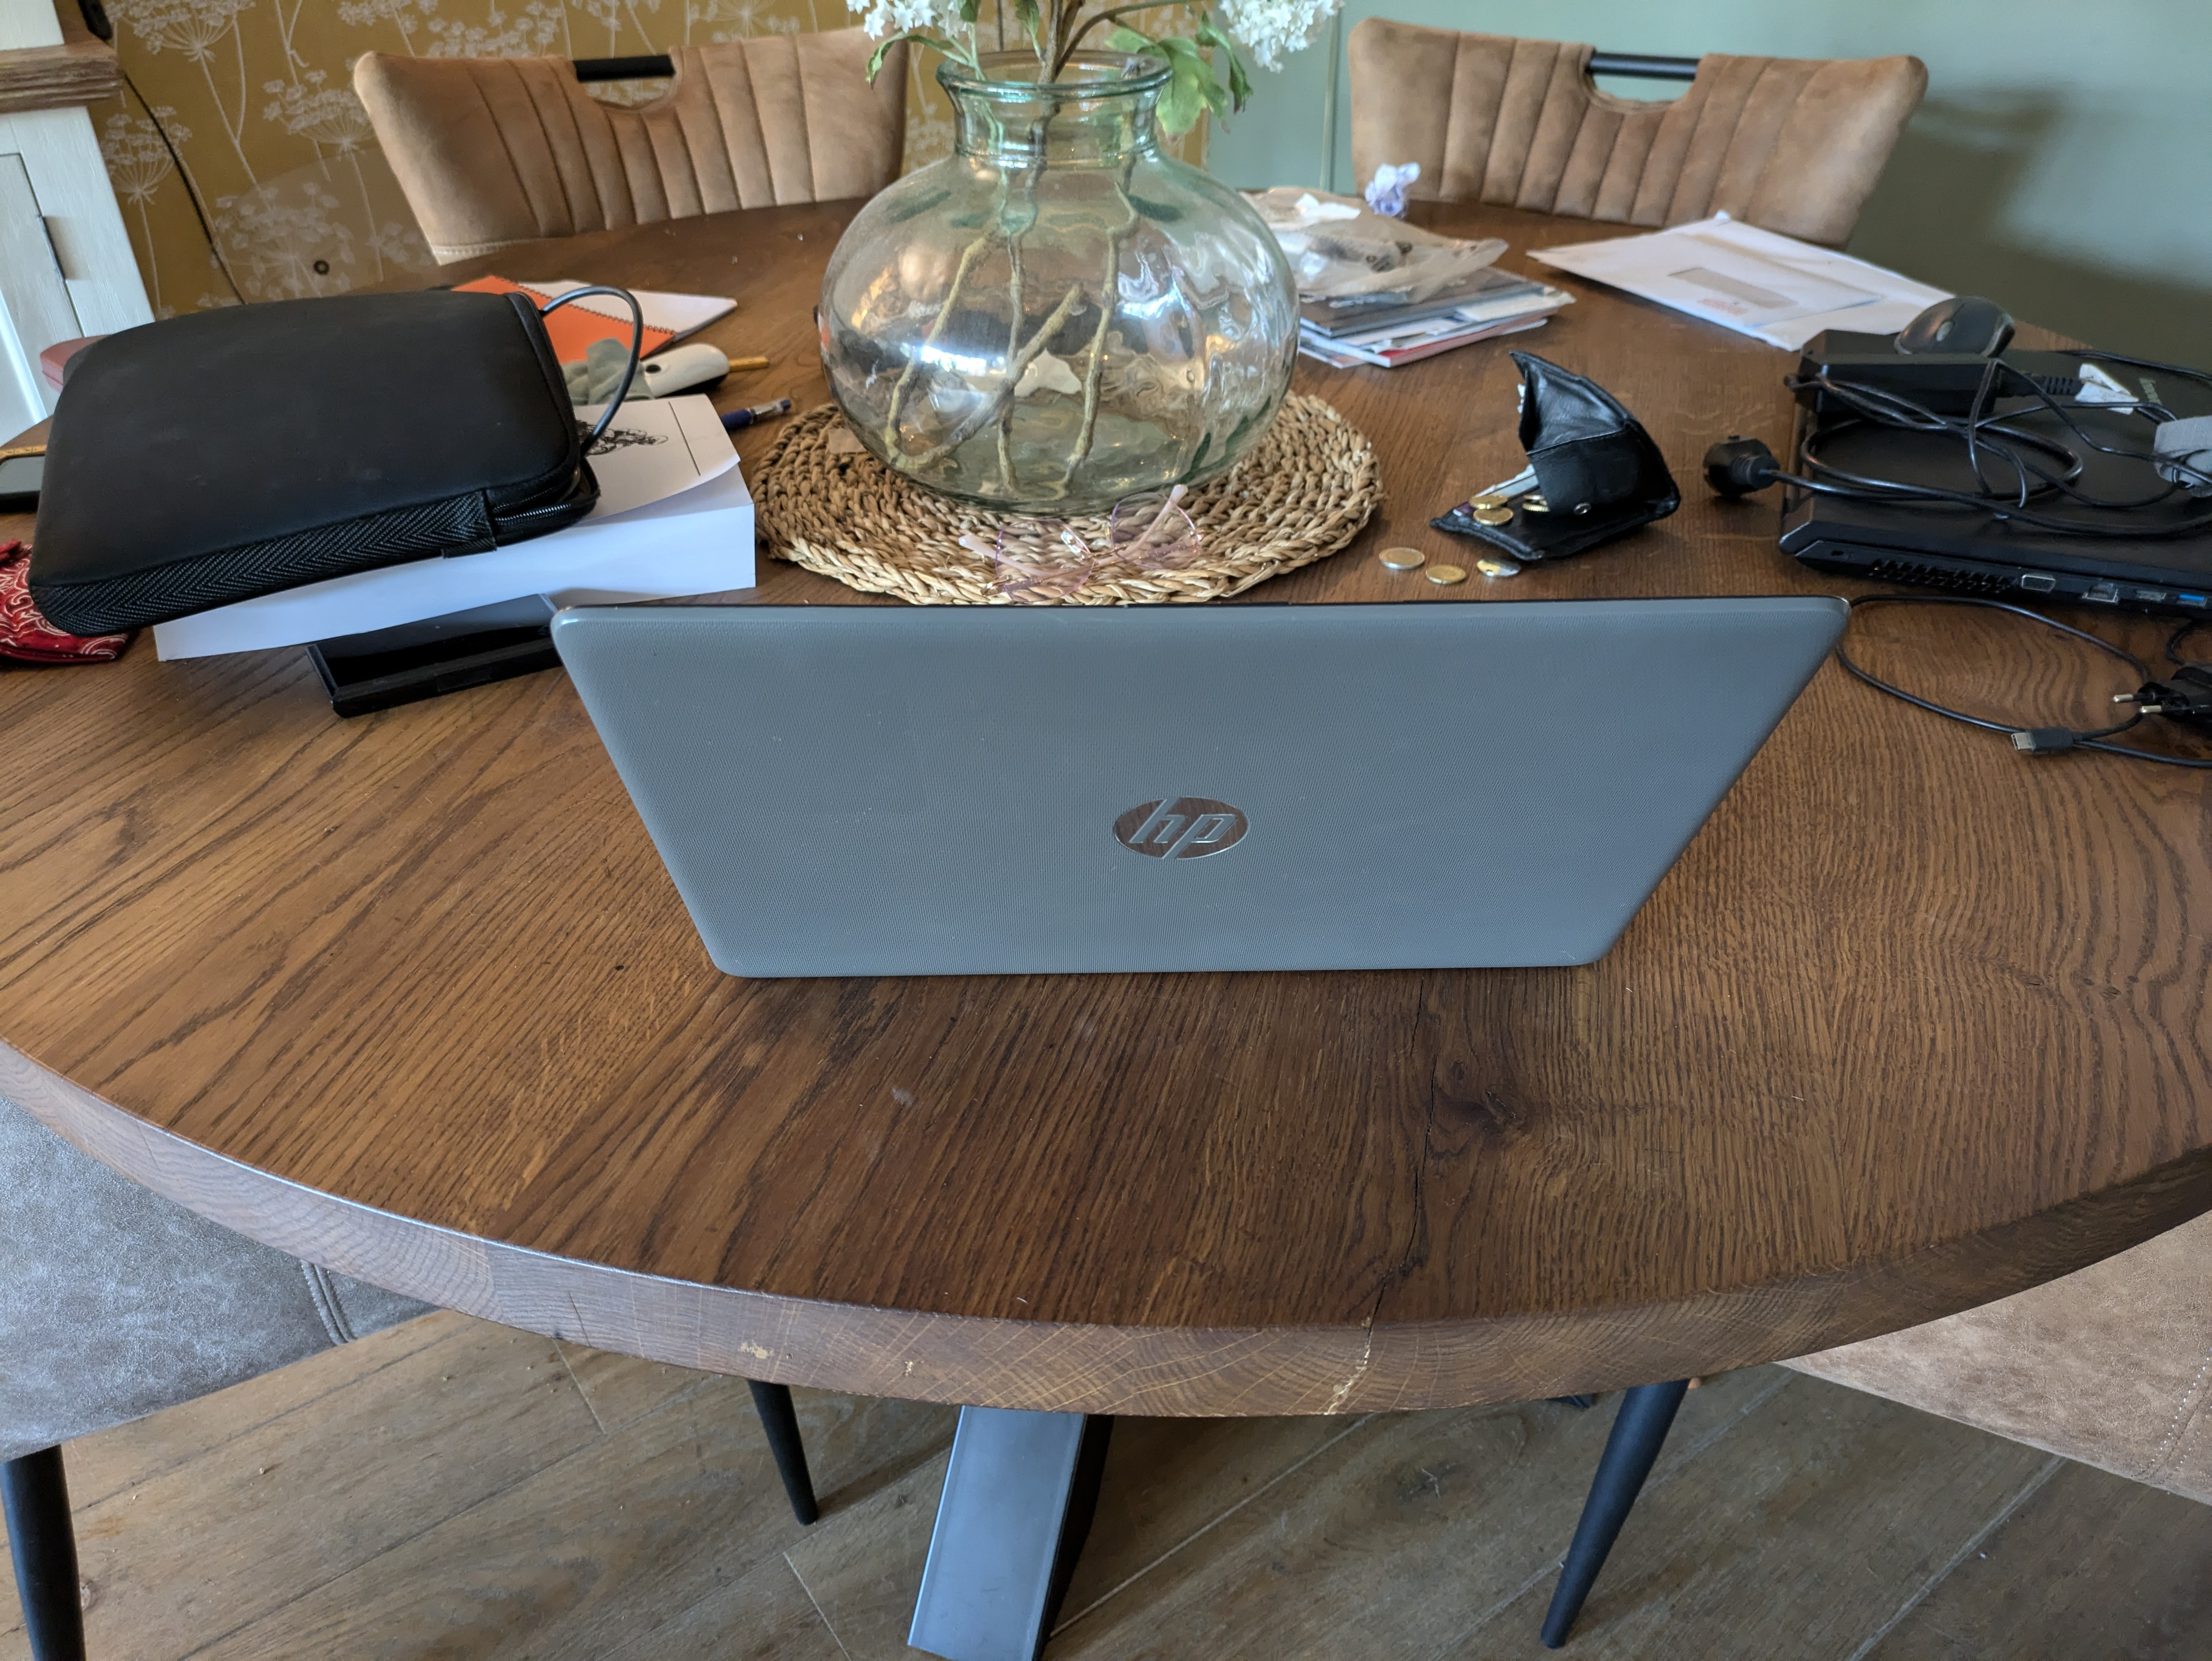laptop: (508, 530, 1879, 1057)
